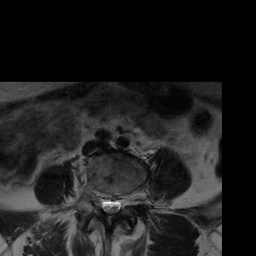CCS_normal: (106, 191, 113, 220)
LFS_normal: (121, 187, 129, 213)
LLS_normal: (114, 194, 121, 217)
RFS_normal: (90, 186, 99, 214)
RLS_normal: (99, 192, 106, 217)
